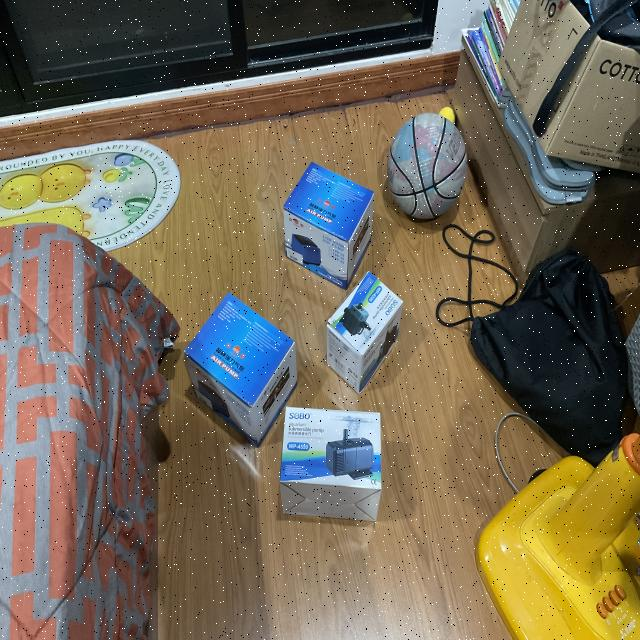SOBO_WP_4200: (270, 396, 385, 540), (312, 275, 409, 406)
YAMANO_LPP_20: (182, 294, 301, 450), (280, 150, 380, 290)
